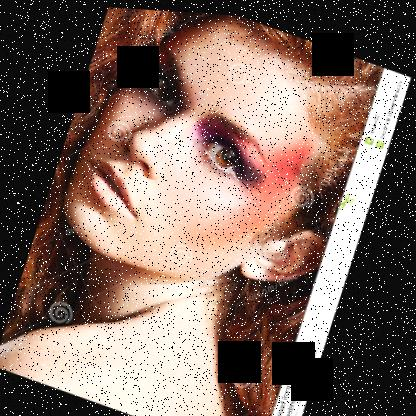Female: (47, 3, 378, 328)
